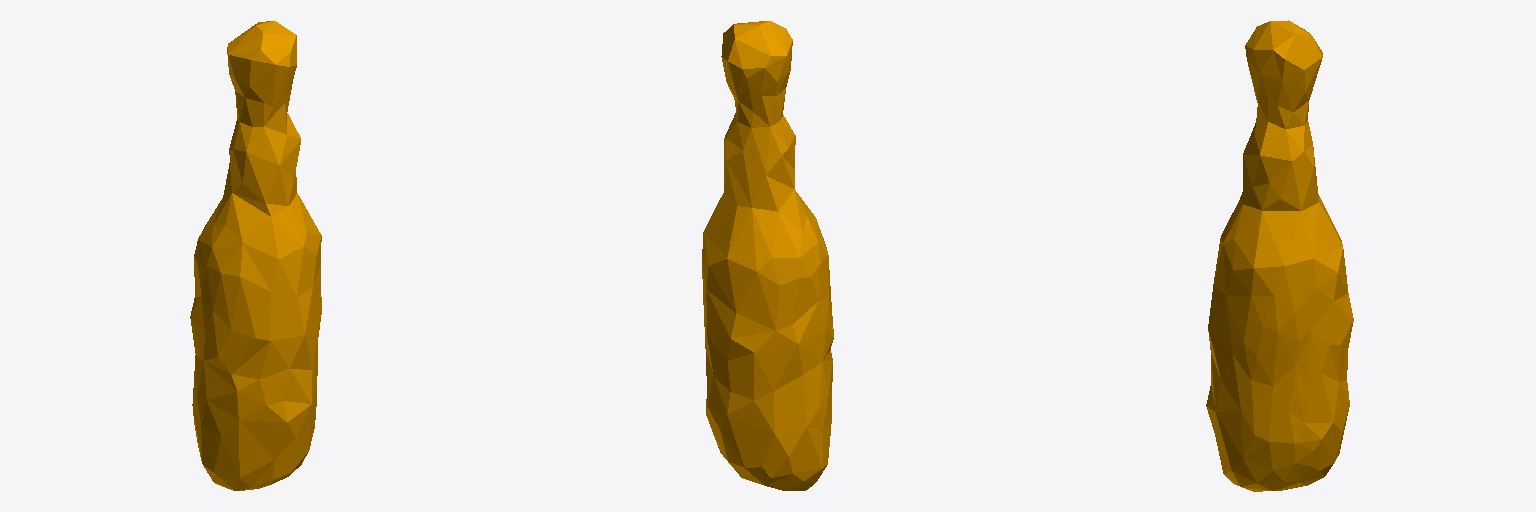
robot.urdf — cholula_chipotle_hot_sauce:
<?xml version="1.0"?>
<robot name="cholula_chipotle_hot_sauce">
  <link name="base_link">
    <contact>
      <lateral_friction value="1.0"/>
      <rolling_friction value="0.0"/>
      <contact_cfm value="0.0"/>
      <contact_erp value="1.0"/>
    </contact>
    <inertial>
      <mass value="0.12205742591"/>
      <inertia ixx="1" ixy="0" ixz="0" iyy="1" iyz="0" izz="1"/>
    </inertial>
    <visual>
      <geometry>
        <mesh filename="cholula_chipotle_hot_sauce_visual.obj"/>
      </geometry>
    </visual>
    <collision>
      <geometry>
        <mesh filename="cholula_chipotle_hot_sauce_collision.obj"/>
      </geometry>
    </collision>
  </link>
</robot>

--- What the picture shows (computed from the rendered views, not written in the file) ---
3 views of the same robot in one strip: view 1: azimuth 30°, elevation 25°; view 2: azimuth 150°, elevation 25°; view 3: azimuth 270°, elevation 25° (orthographic).
Robot: cholula_chipotle_hot_sauce — 1 links, 0 joints (none); root link base_link; default pose: all joints at 0.
Visible links, largest first — view 1: base_link; view 2: base_link; view 3: base_link.
Link boxes in pixels (x1,y1,x2,y2): base_link: (190, 21, 321, 490); base_link: (702, 21, 833, 490); base_link: (1206, 20, 1353, 491).
Size in the robot's own frame: 0.0463 by 0.05 by 0.1781 metres.
Meshes: 1 distinct files referenced, 1 mesh visuals loaded (1 OBJ).